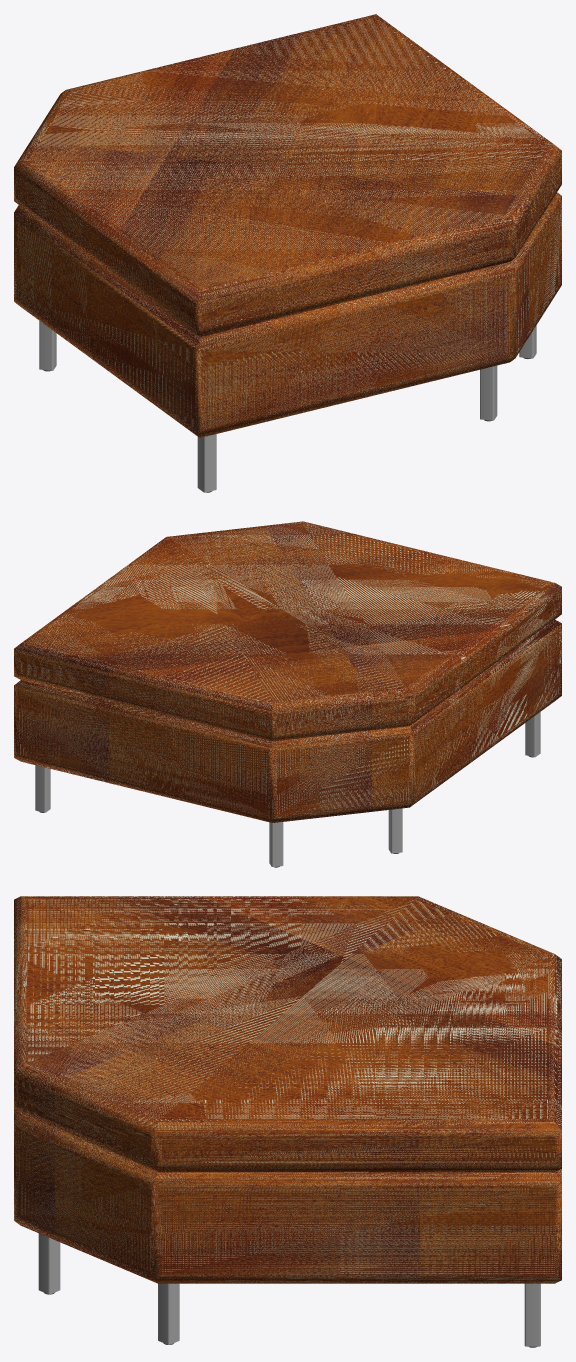
3 renders of one model, top to bottom at view 1: azimuth 30°, elevation 25°; view 2: azimuth 150°, elevation 25°; view 3: azimuth 270°, elevation 25°, orthographic. The views are drawn at different scales.
Visible parts, largest first — view 1: mesh1_mesh1-geometry, mesh5_mesh5-geometry, mesh9_mesh9-geometry; view 2: mesh1_mesh1-geometry, mesh5_mesh5-geometry, mesh9_mesh9-geometry; view 3: mesh1_mesh1-geometry, mesh5_mesh5-geometry, mesh9_mesh9-geometry.
Part boxes in pixels (box(x1,y1,x2,y2)): mesh1_mesh1-geometry: box(14, 14, 561, 437); mesh5_mesh5-geometry: box(39, 321, 536, 492); mesh9_mesh9-geometry: box(480, 365, 497, 420); mesh1_mesh1-geometry: box(14, 521, 561, 822); mesh5_mesh5-geometry: box(35, 712, 540, 853); mesh9_mesh9-geometry: box(269, 822, 283, 866); mesh1_mesh1-geometry: box(14, 896, 561, 1283); mesh5_mesh5-geometry: box(158, 1283, 540, 1346); mesh9_mesh9-geometry: box(38, 1233, 60, 1294).
Size of the model in its own units: 0.6712 by 0.3148 by 0.6712.
